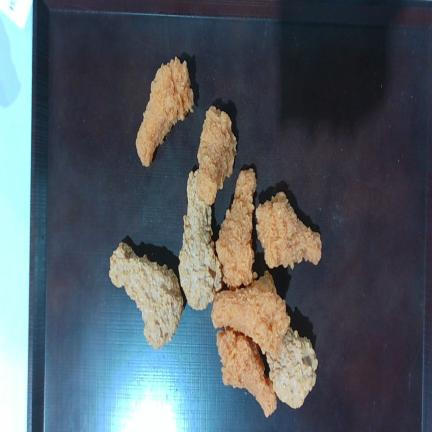chicken: (109, 242, 183, 349), (211, 271, 290, 354), (136, 57, 193, 166), (179, 170, 222, 308), (217, 328, 277, 417), (256, 191, 321, 269), (216, 169, 256, 289), (266, 327, 318, 408), (197, 106, 236, 205)
